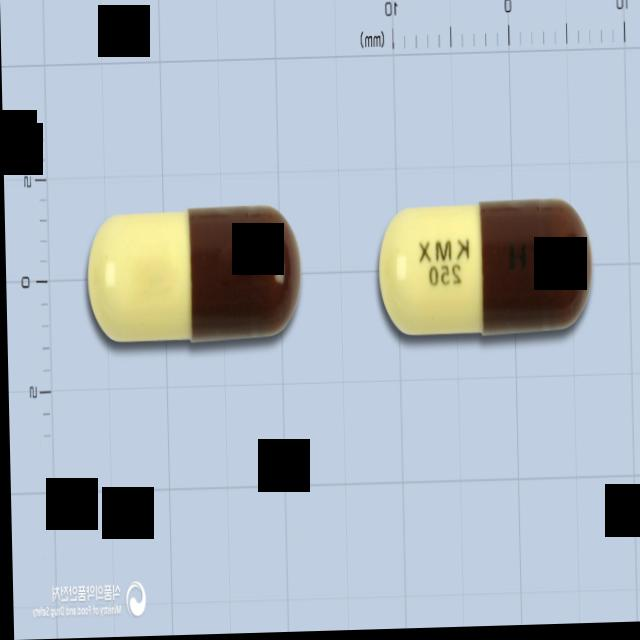Kymoxin Cap: (375, 200, 593, 342), (84, 207, 302, 346)
